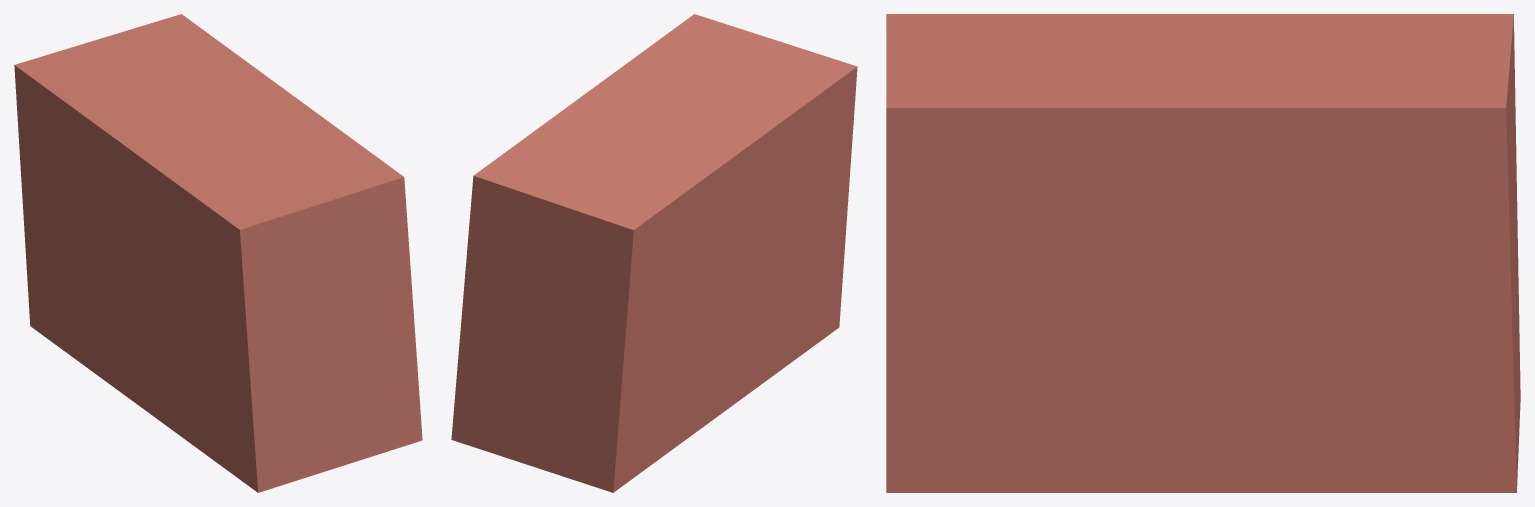
The model's file is cresome_building.glb.
3 views of the same model, side by side, from view 1: azimuth 30°, elevation 25°; view 2: azimuth 150°, elevation 25°; view 3: azimuth 270°, elevation 25° (orthographic). The views are drawn at different scales.
Parts seen in each view (by area): view 1: geometry_0; view 2: geometry_0; view 3: geometry_0.
Boxes of the visible parts, <box> form: geometry_0: <box>14,14,422,492</box>; geometry_0: <box>451,14,857,492</box>; geometry_0: <box>886,14,1520,492</box>.
Bounding box in the file's own units: 5.12 × 7.5 × 11.05.
